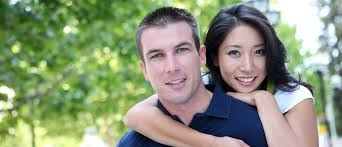asian_female: (204, 12, 294, 95)
